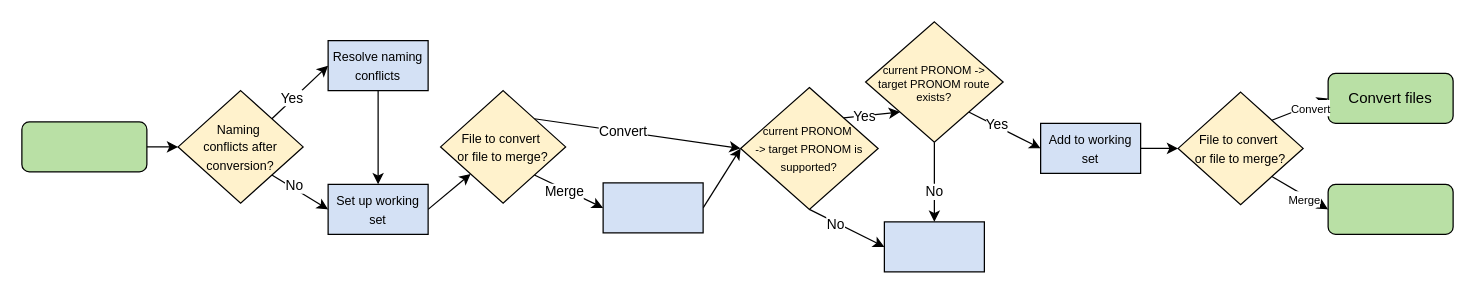
Image size: 1475x294. Some labels were removed from this diagram. Here are the shapes that lost their labels. From the top down, the centre of each, then its label:
(84,146): Start conversion
(652,207): Add file to list of files that should be merged
(1390,208): Combine files
(933,246): Log error message
